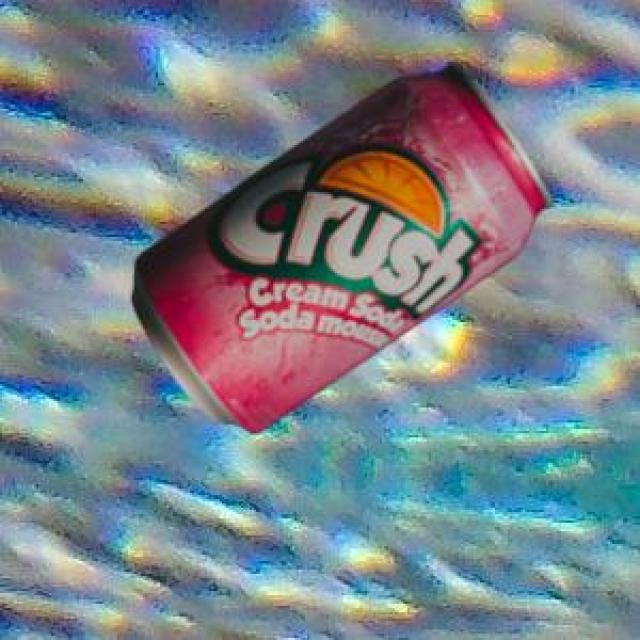Can: (129, 61, 549, 430)
